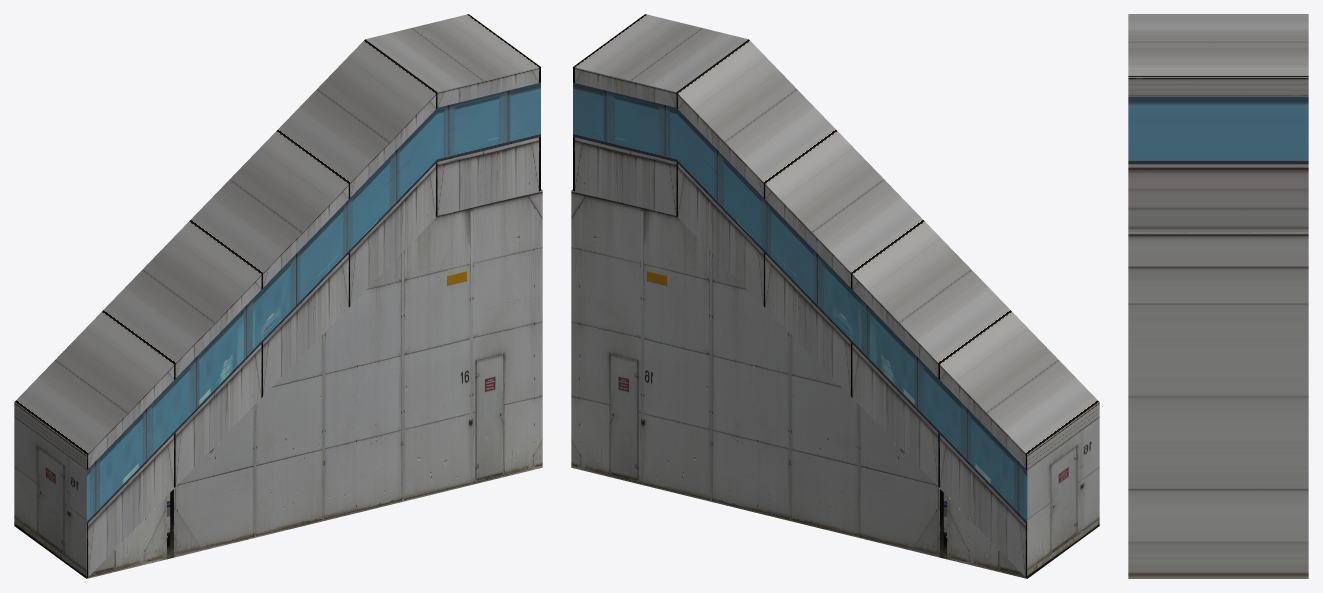
File: bridge_part.fbx
The picture shows the model from 3 angles, left to right: view 1: azimuth 30°, elevation 25°; view 2: azimuth 150°, elevation 25°; view 3: azimuth 270°, elevation 25°; orthographic projection. The views are drawn at different scales.
Parts seen in each view (by area): view 1: polySurface46; view 2: polySurface46; view 3: polySurface46.
Boxes of the visible parts, box(x1,y1,x2,y2) form: polySurface46: box(14, 14, 542, 578); polySurface46: box(571, 14, 1099, 578); polySurface46: box(1128, 14, 1308, 578).
Size of the model in its own units: 8.8 by 7.4 by 2.42.
Materials: 2 (2 with a texture image).
